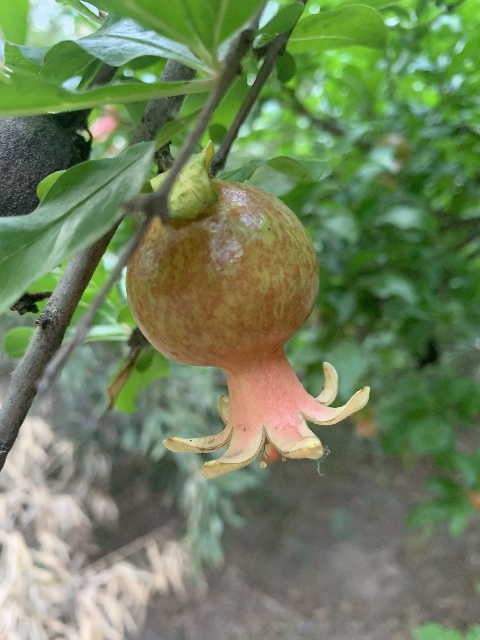early-fruit: (125, 180, 371, 477)
